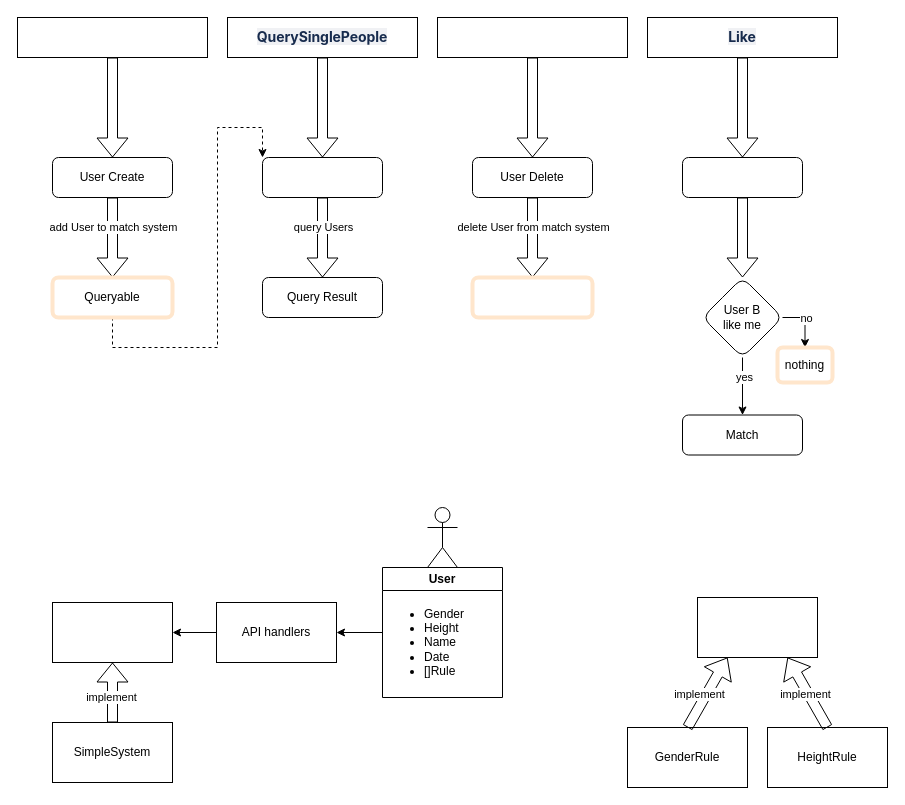
Some shapes in this 905 by 805 pixel diagram are drawn without their labels. Here are the shapes that lost their labels. From the top down, the centre of each, then its label:
point 112,37: AddSinglePersonAndMatch
point 532,37: RemoveSinglePerson
point 322,177: User Query
point 742,177: mark I like User B
point 532,297: Un-Queryable
point 112,632: <interface> MatchSystem
point 757,627: <interface> Rule
